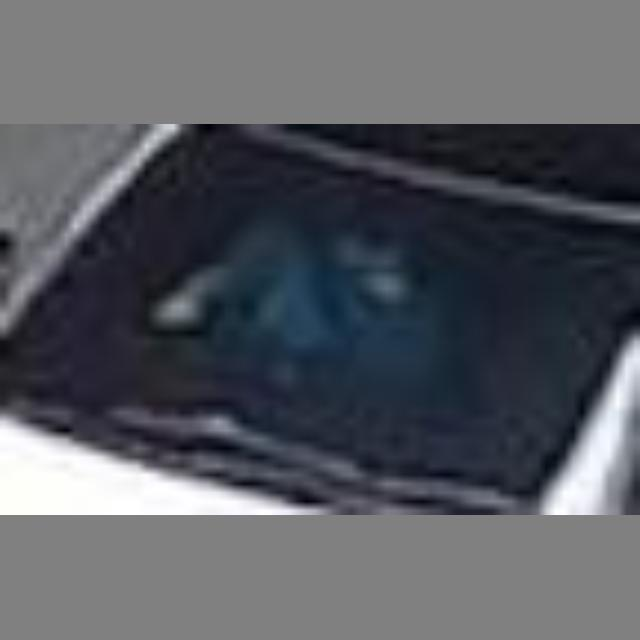pakai: (231, 186, 409, 391)
